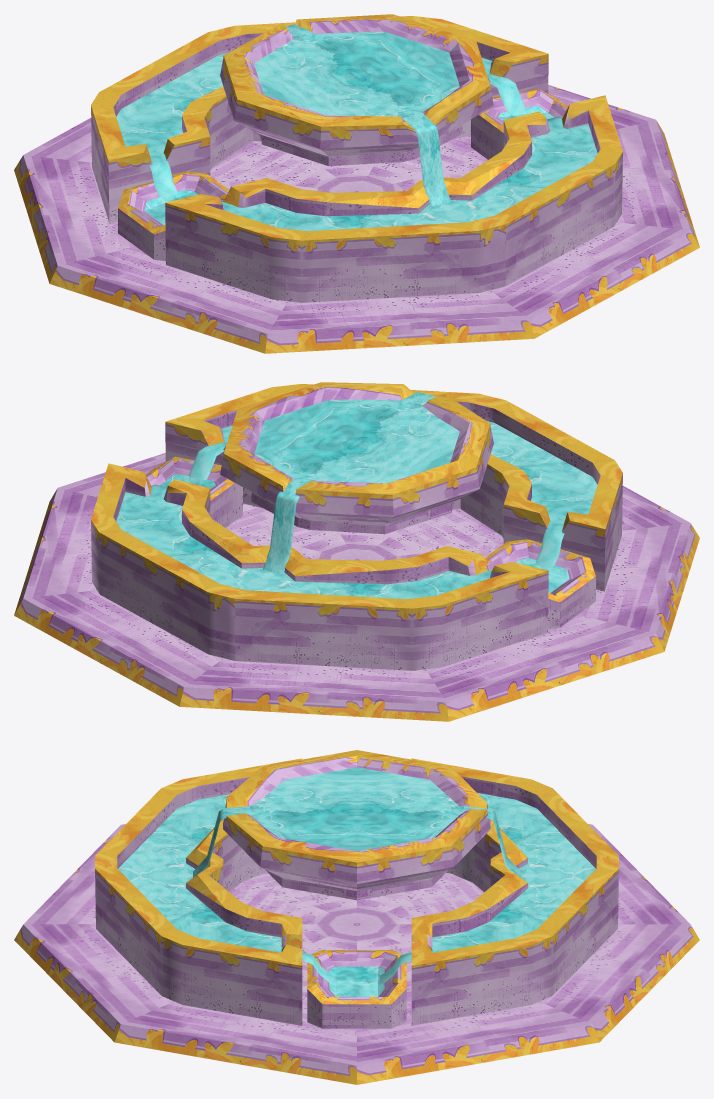
The model's file is s0_Str_Fountain_01__1__01.glb.
3 renders of one model, top to bottom at view 1: azimuth 30°, elevation 25°; view 2: azimuth 150°, elevation 25°; view 3: azimuth 270°, elevation 25°, orthographic. The views are drawn at different scales.
Parts seen in each view (by area): view 1: node_Str_Fountain_01 (1), node_Str_Fountain_01_Water; view 2: node_Str_Fountain_01 (1), node_Str_Fountain_01_Water; view 3: node_Str_Fountain_01 (1), node_Str_Fountain_01_Water.
Part boxes in pixels (x1,y1,x2,y2): node_Str_Fountain_01 (1): [14, 14, 699, 353]; node_Str_Fountain_01_Water: [116, 24, 597, 231]; node_Str_Fountain_01 (1): [14, 382, 699, 721]; node_Str_Fountain_01_Water: [116, 392, 597, 599]; node_Str_Fountain_01 (1): [14, 750, 699, 1084]; node_Str_Fountain_01_Water: [118, 767, 595, 996].
Size of what is drawn, in the model's own units: 6.73 by 1.48 by 6.73.
2 materials, 2 textured.
